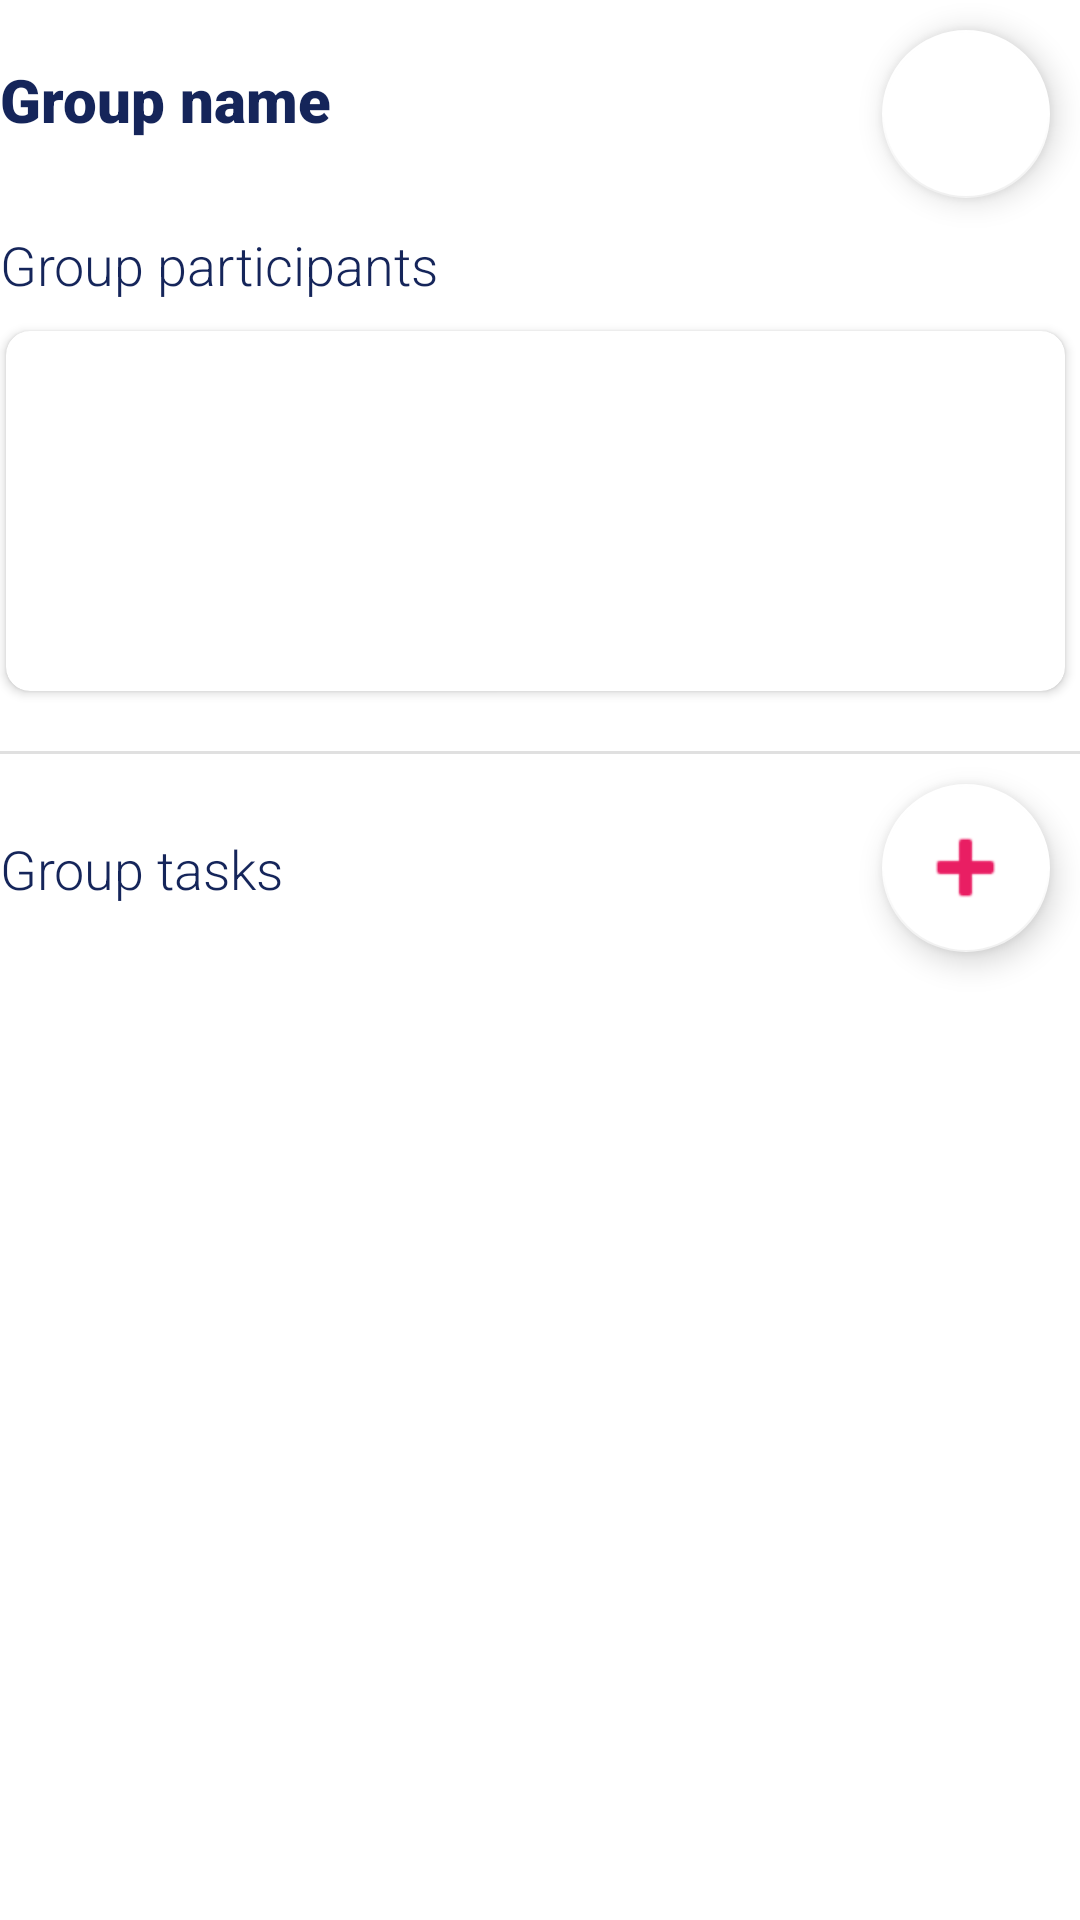

Point at icon controls on the screen. Image size 1080×1920, points as (x,y).
add: (973,895)
